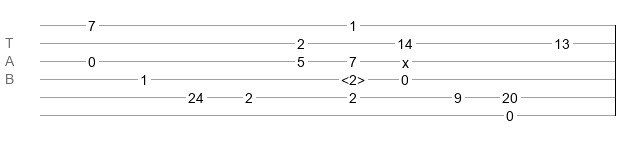0: (88, 54, 96, 64), (401, 72, 409, 82), (506, 108, 514, 118)
1: (140, 72, 148, 82), (349, 18, 357, 28)
13: (554, 36, 570, 46)
14: (397, 36, 413, 46)
2: (245, 90, 253, 100), (297, 36, 305, 46), (349, 90, 357, 100)
20: (502, 90, 518, 100)
24: (188, 90, 204, 100)
5: (297, 54, 305, 64)
7: (88, 18, 96, 28), (349, 54, 357, 64)
9: (454, 90, 462, 100)
harmonic: (341, 72, 365, 82)
x: (402, 55, 409, 63)
